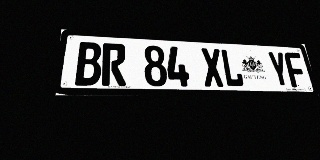4: (166, 46, 190, 86)
8: (144, 45, 168, 86)
B: (75, 42, 102, 86)
F: (283, 52, 309, 88)
L: (220, 49, 245, 87)
R: (102, 43, 126, 86)
X: (200, 48, 225, 87)
Y: (266, 51, 291, 87)
